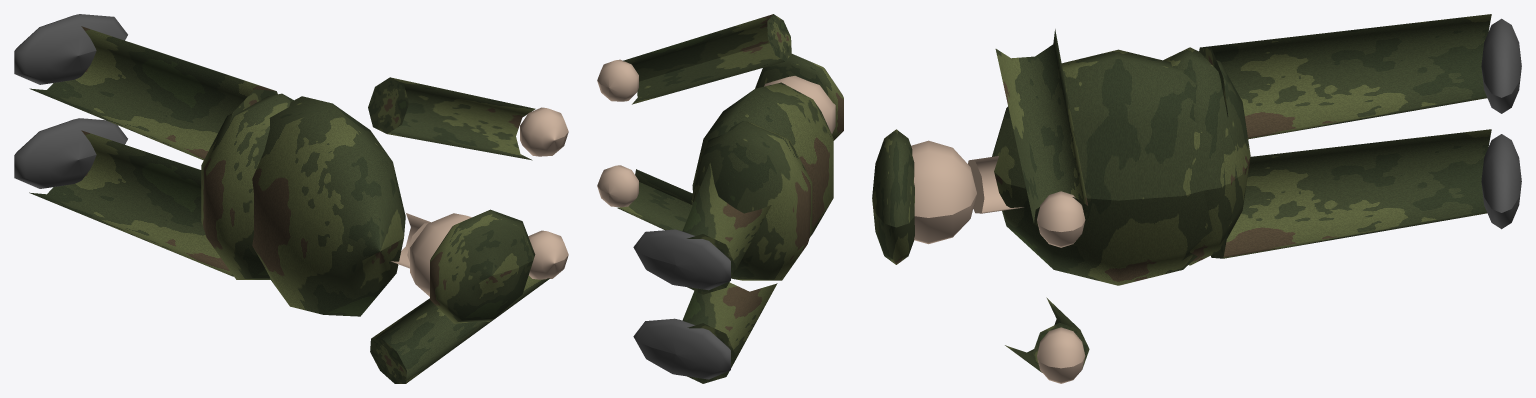
The model's file is person_camo_crouch.glb.
3 renders of one model, left to right at view 1: azimuth 30°, elevation 25°; view 2: azimuth 150°, elevation 25°; view 3: azimuth 270°, elevation 25°, orthographic. The views are drawn at different scales.
Size of the model in its own units: 0.7805 by 0.6388 by 1.12.
3 materials, 1 textured.
